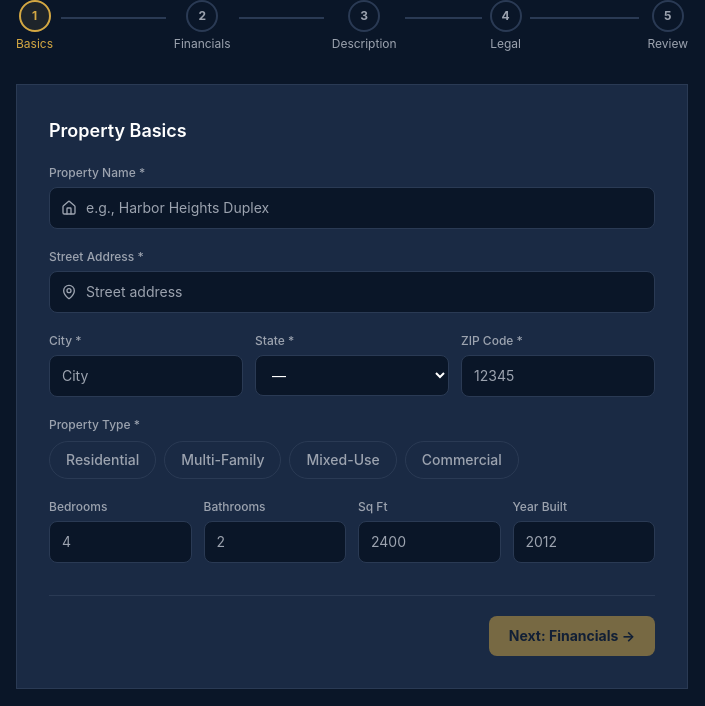
Scenario: ListPropertyForm › Next button enables after filling required step 1 fields
The width and height of the screenshot is (705, 706).
Type "My Property" into the field with placeholder "e.g., Harbor Heights Duplex" at [352, 208], box [49,187,655,229]
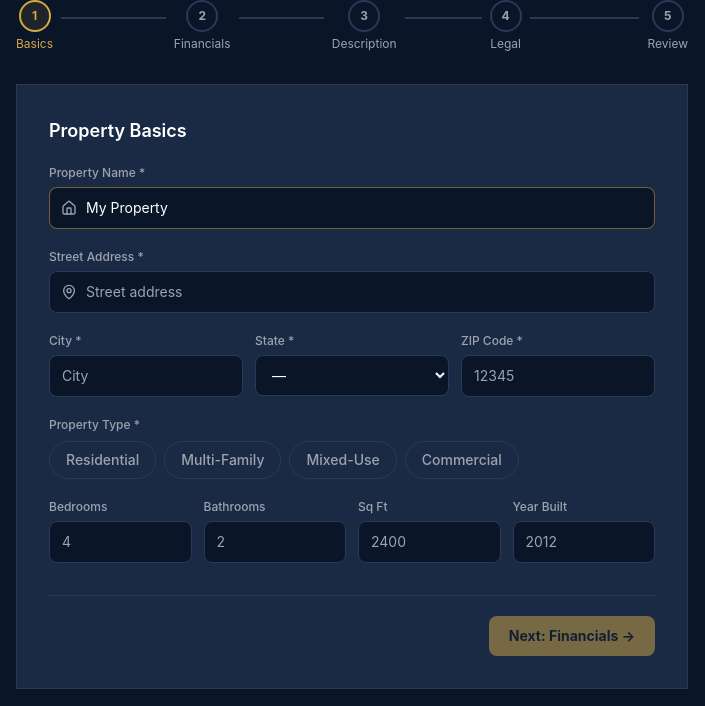
Type "123 Main St" into the field with placeholder "Street address" at [352, 292], box [49,271,655,313]
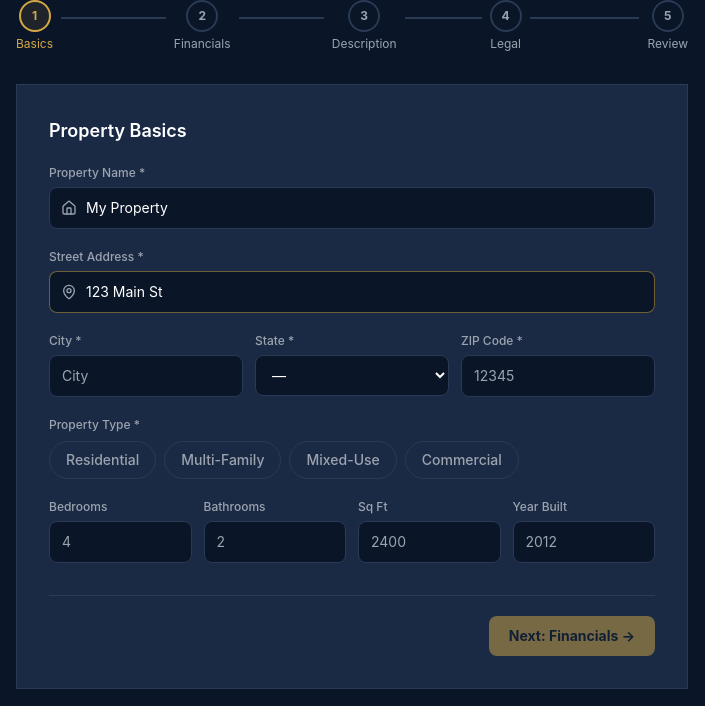
Type "Tampa" into the field with placeholder "City" at [146, 376], box [49,355,243,397]
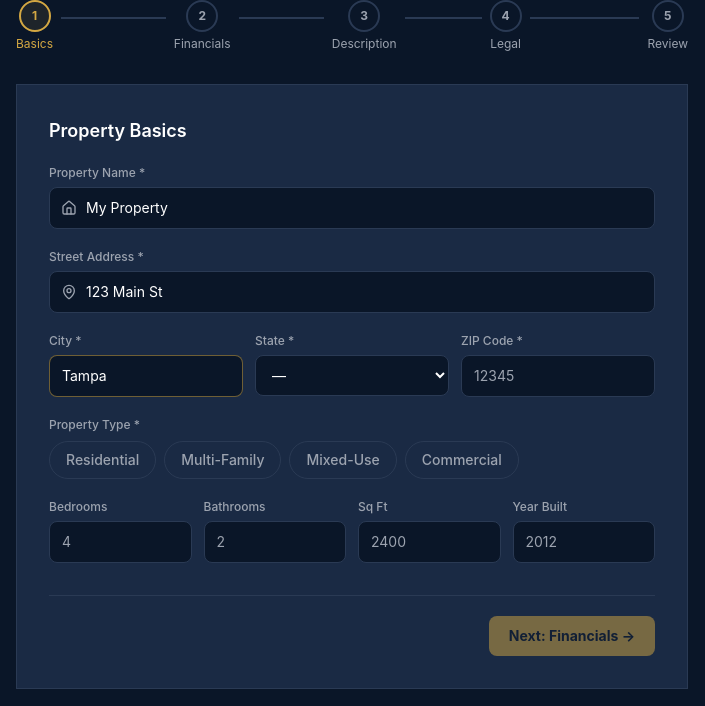
// Select state via select element
Select "FL" in the dropdown at [352, 376], box [255,355,449,396]
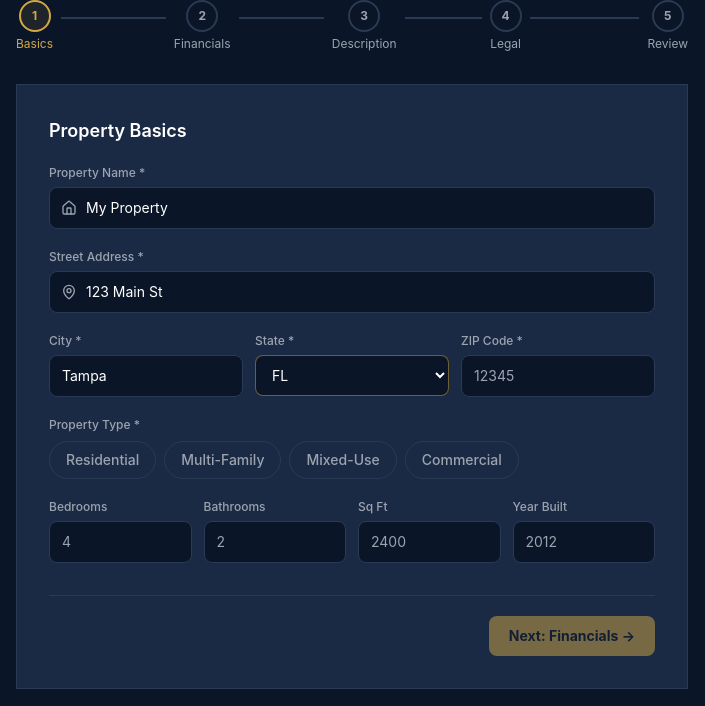
// Enter ZIP
Type "33602" into the field with placeholder "12345" at [558, 376], box [461,355,655,397]
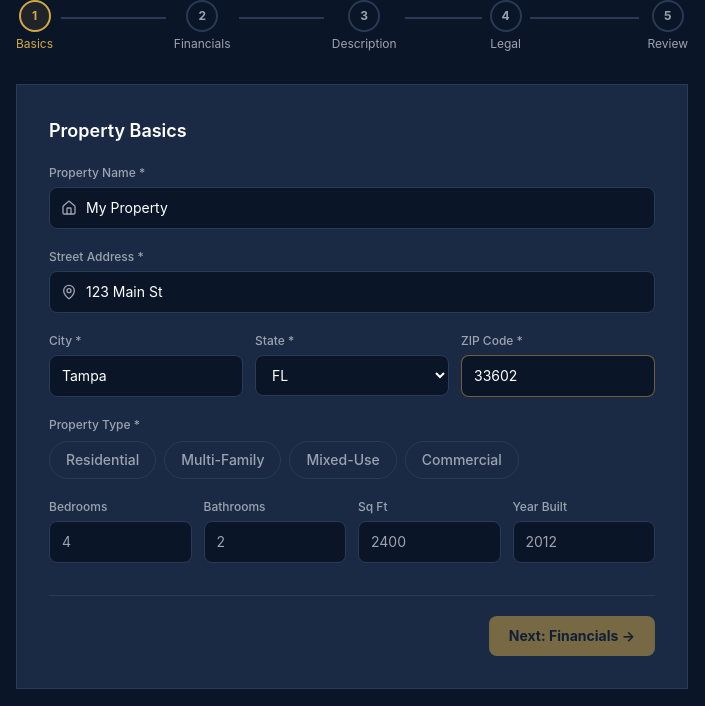
// Select property type pill
Click the button "Residential" at [103, 460], box [49,441,156,479]
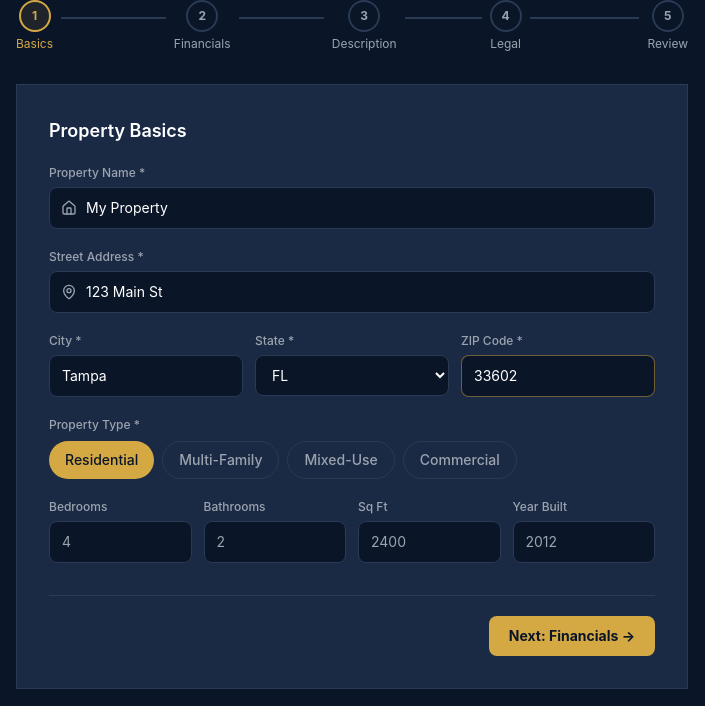
Result: the button "Next: Financials →" is enabled at [489,616,655,656]
